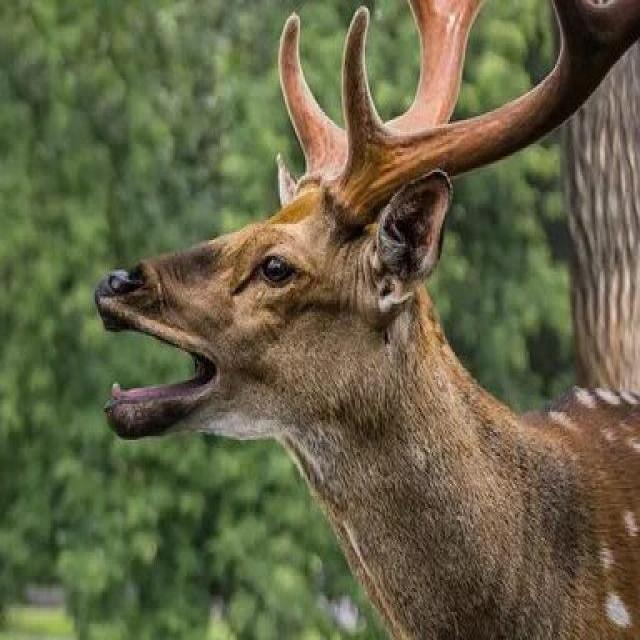deer: (52, 17, 640, 624)
